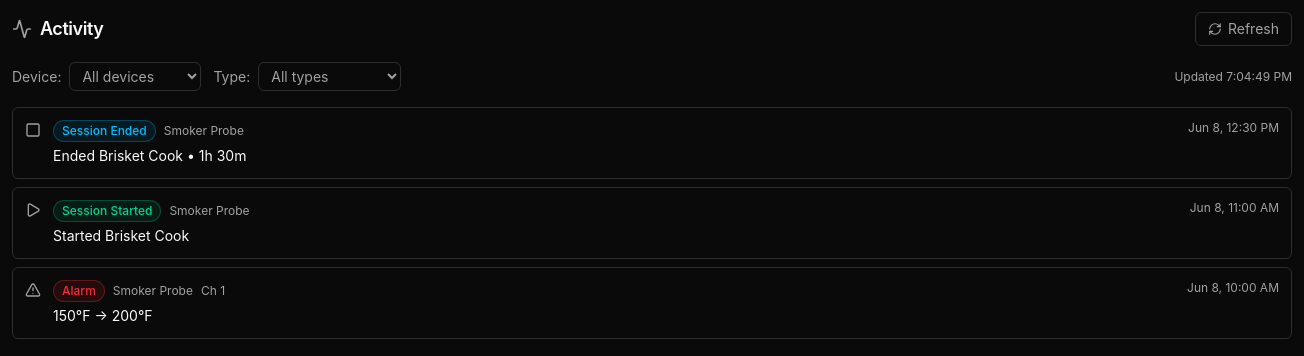
it: Events page › keeps filtering working with combined activity types
The image size is (1304, 356).
Expected: the text "Started Brisket Cook" is shown, top-left (53, 227), bottom-right (189, 244)
Select "Session Started" in the dropdown labelled "Type:": coordinates (330, 76) top-left (258, 62), bottom-right (401, 91)
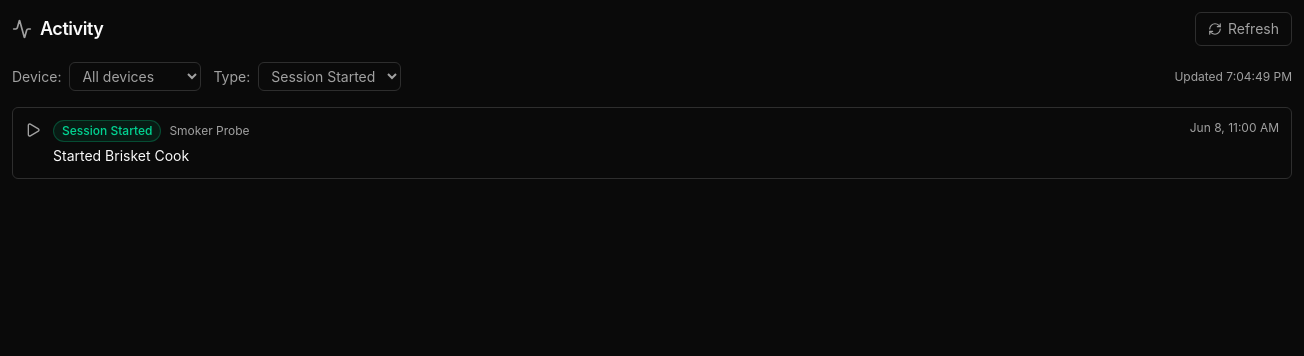
Expected: the text "Started Brisket Cook" is shown, top-left (53, 147), bottom-right (189, 164)
Expected: the button "150°F → 200°F" is gone
